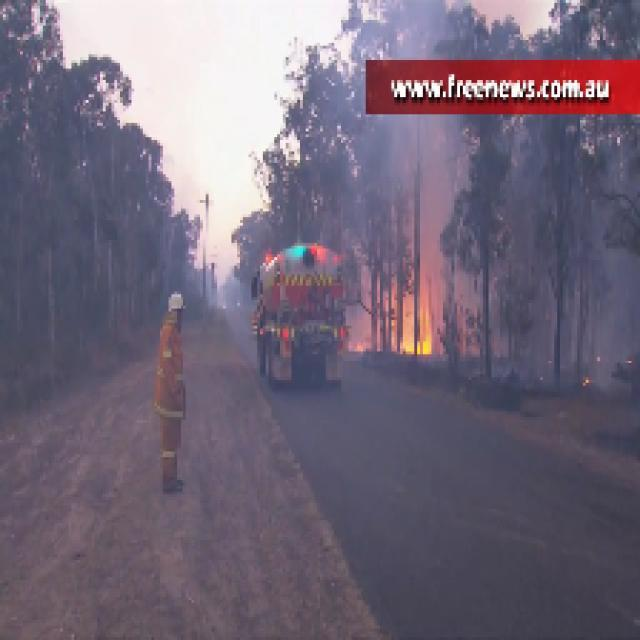Fire: (342, 253, 467, 370)
